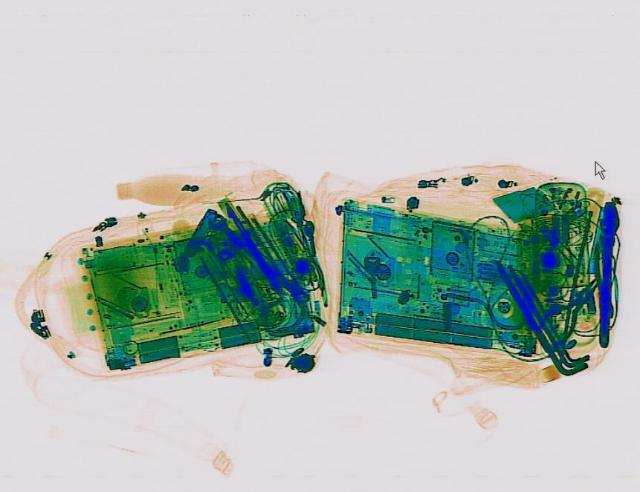Pliers: (522, 269, 616, 347)
Wrench: (200, 208, 316, 304)
